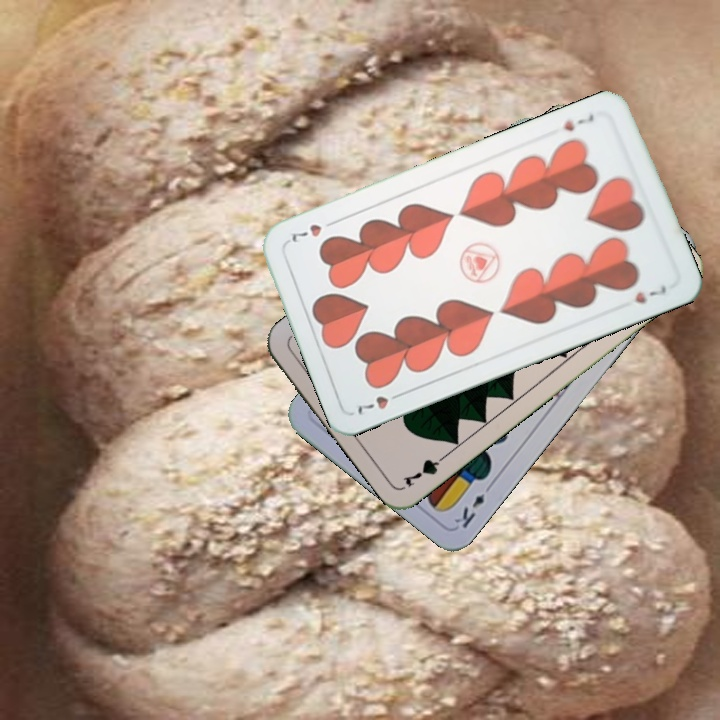EK: (450, 479, 496, 531)
G7: (399, 448, 452, 490)
H7: (353, 388, 407, 418), (559, 109, 597, 134)
